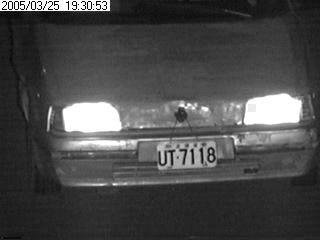plate: (154, 139, 218, 171)
